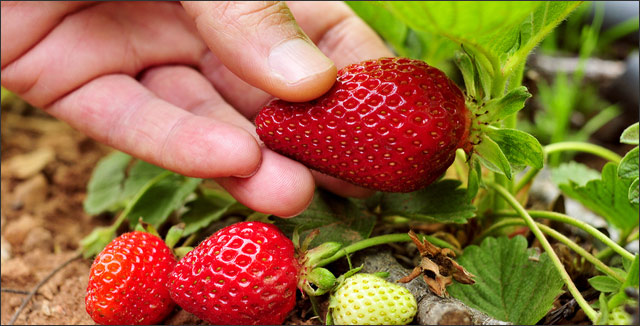ripe: (254, 52, 466, 192), (189, 212, 306, 323), (80, 220, 191, 324)
unripe: (325, 263, 418, 323)
